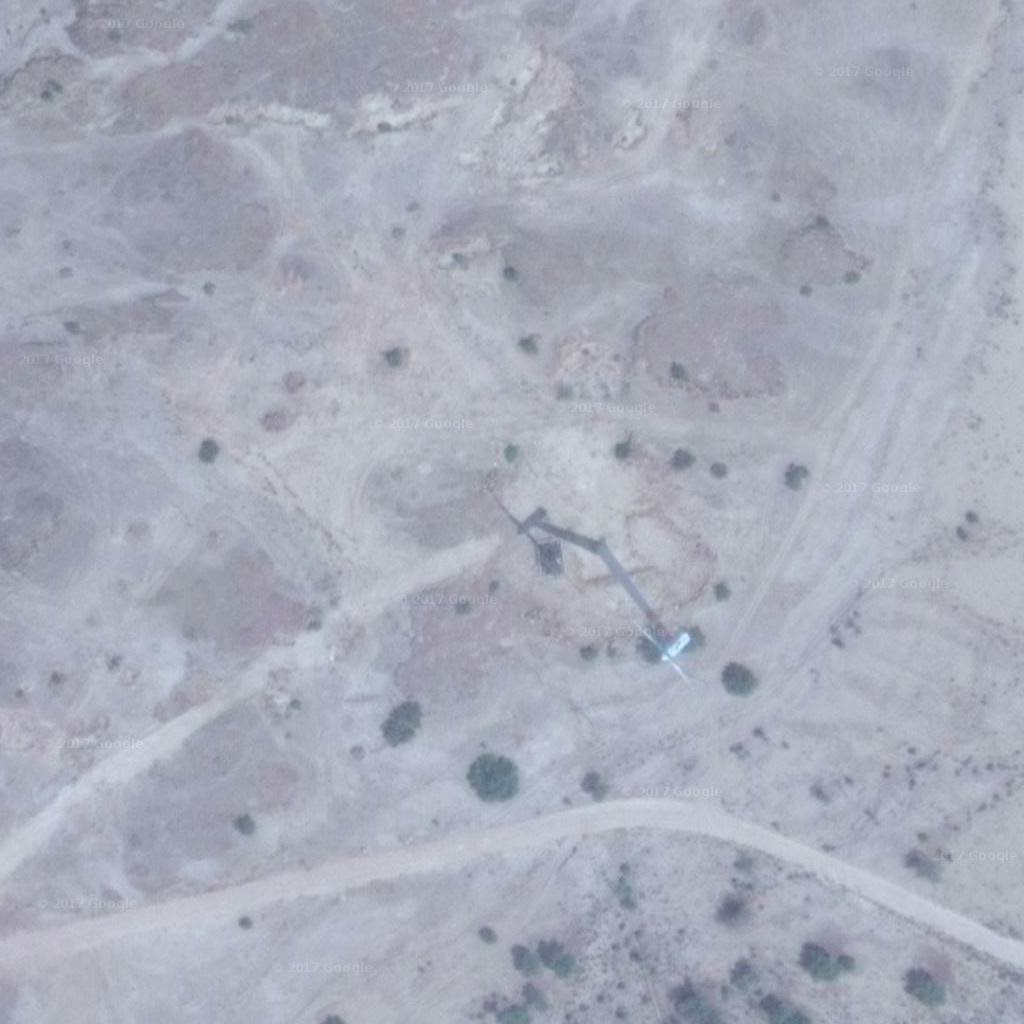Windmill: (490, 492, 678, 642)
